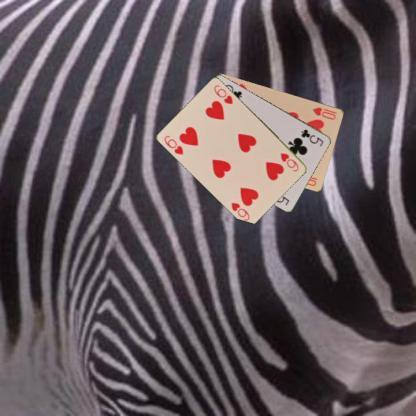10h: (310, 104, 338, 120)
5c: (298, 126, 324, 148)
6h: (162, 133, 185, 156), (278, 150, 300, 173)
